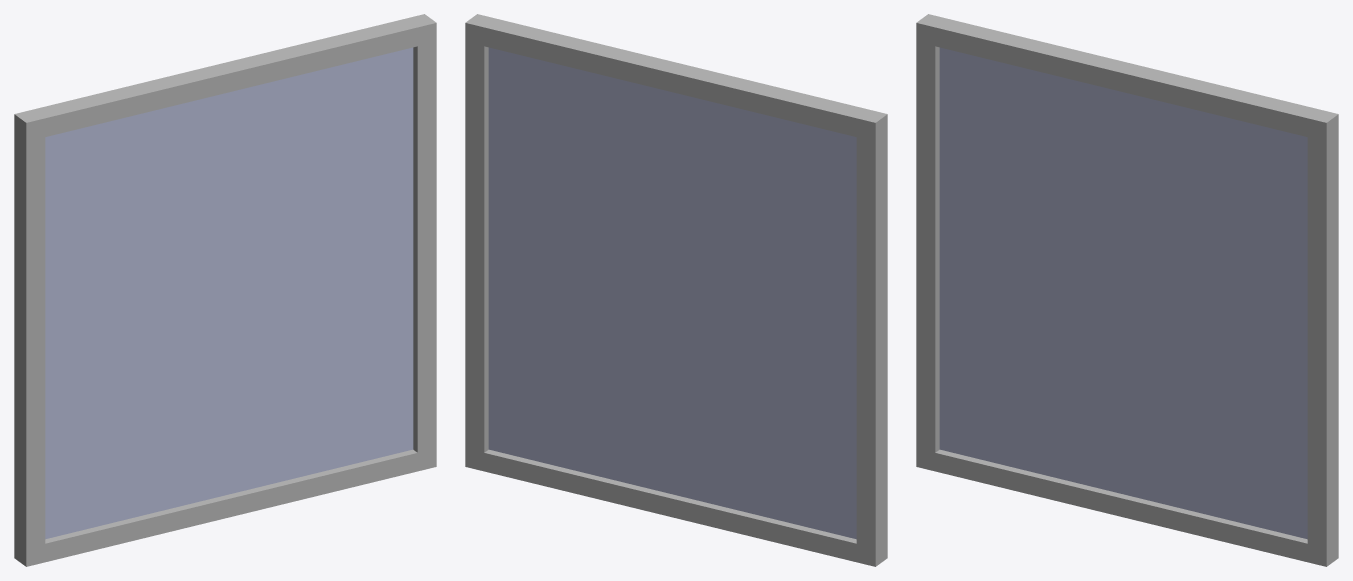
File: Window_01_B_SM.FBX
3 renders of one model, left to right at view 1: azimuth 30°, elevation 25°; view 2: azimuth 150°, elevation 25°; view 3: azimuth 330°, elevation 25°, orthographic.
Visible parts, largest first — view 1: Window_01_B_SM; view 2: Window_01_B_SM; view 3: Window_01_B_SM.
Part boxes in pixels (x1,y1,x2,y2): Window_01_B_SM: [14, 14, 436, 566]; Window_01_B_SM: [465, 14, 887, 566]; Window_01_B_SM: [916, 14, 1338, 566].
Size of the model in its own units: 122 by 6.22 by 126.
